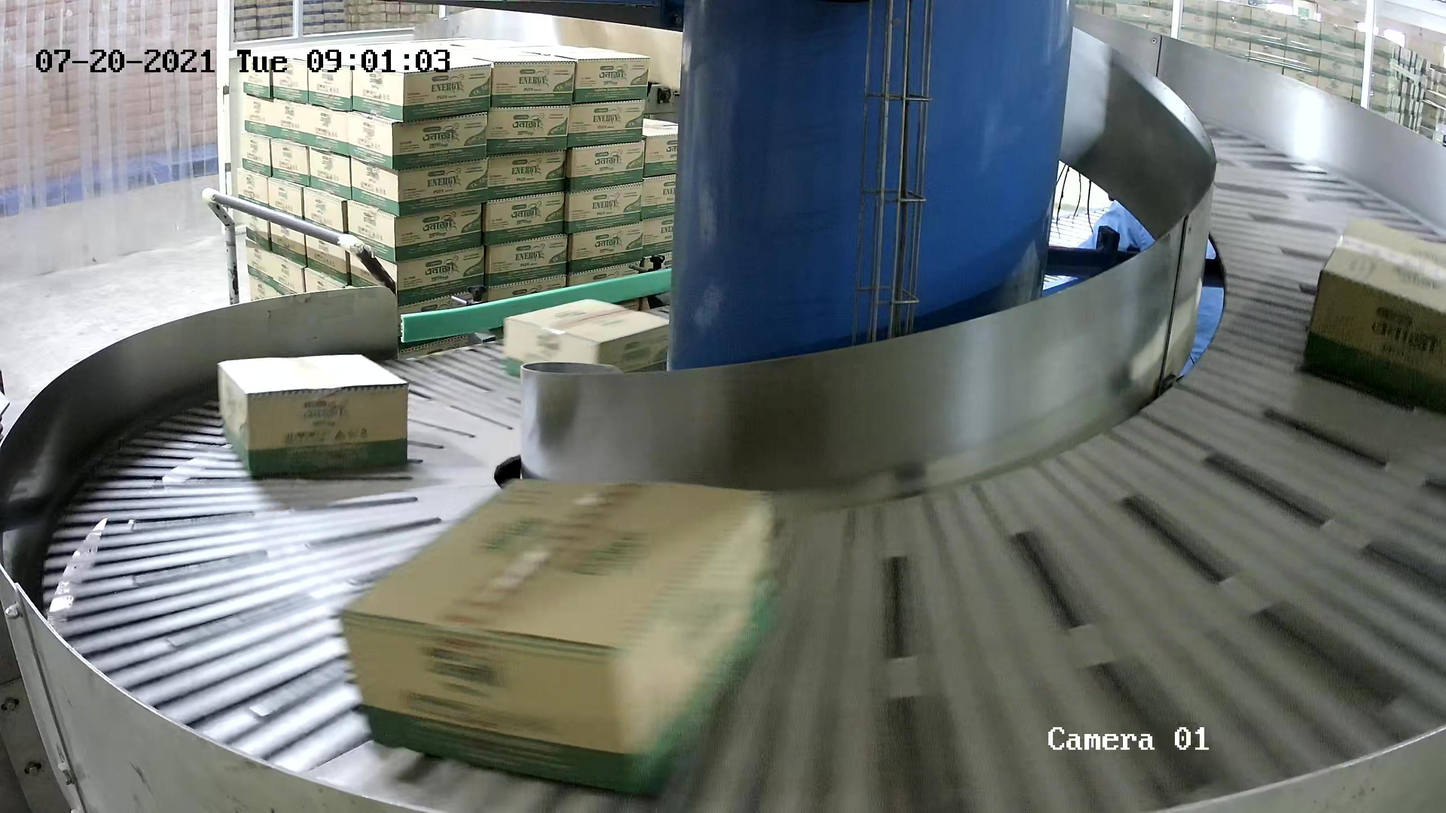Box: (336, 475, 780, 801), (1299, 217, 1446, 414), (216, 352, 410, 477), (503, 297, 671, 382)
